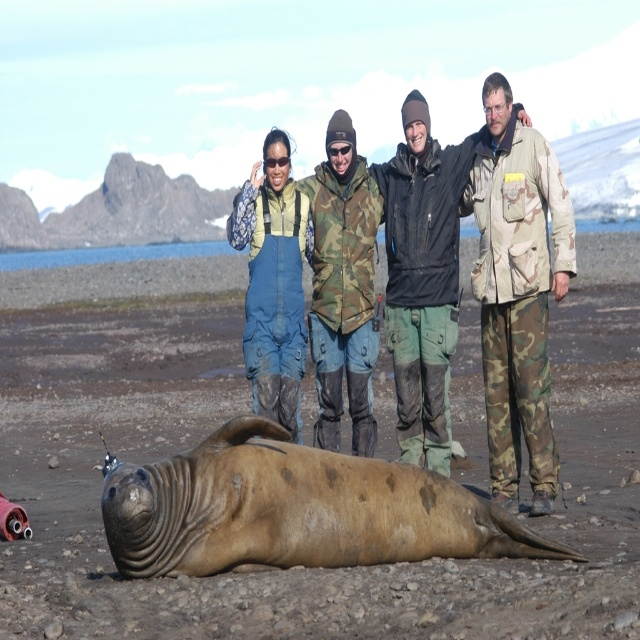Sea lion: (101, 411, 587, 568)
